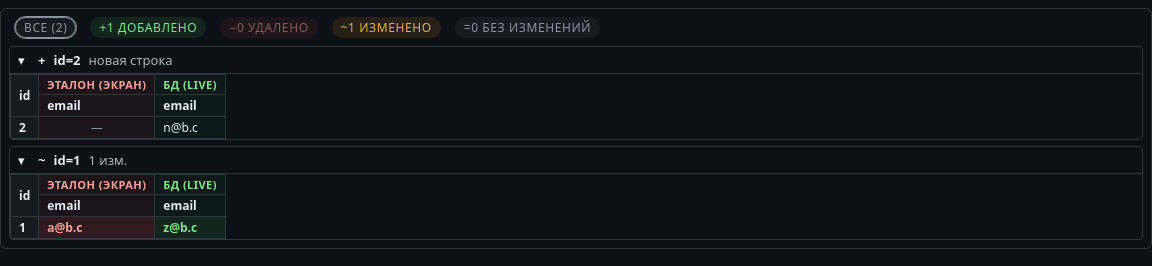
Test: RowDiffView › filters rows by change type
The width and height of the screenshot is (1152, 266).
Check: the text "id=1" is shown, box [53, 151, 80, 169]
Check: the text "id=2" is shown, box [53, 51, 80, 69]
Click the button "~1 изменено" at (386, 28), box [332, 17, 441, 38]
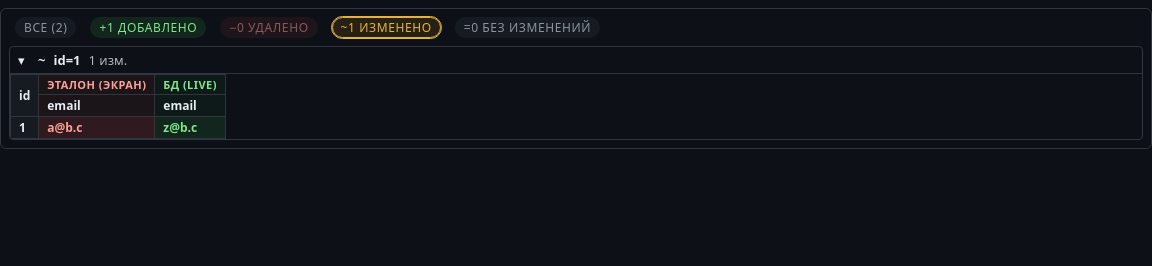
Check: the text "id=1" is shown, box [53, 51, 80, 69]
Check: the button "id=2" is gone
